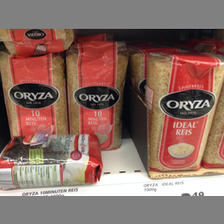rice: (145, 52, 224, 174), (66, 40, 129, 151), (1, 51, 71, 137)
